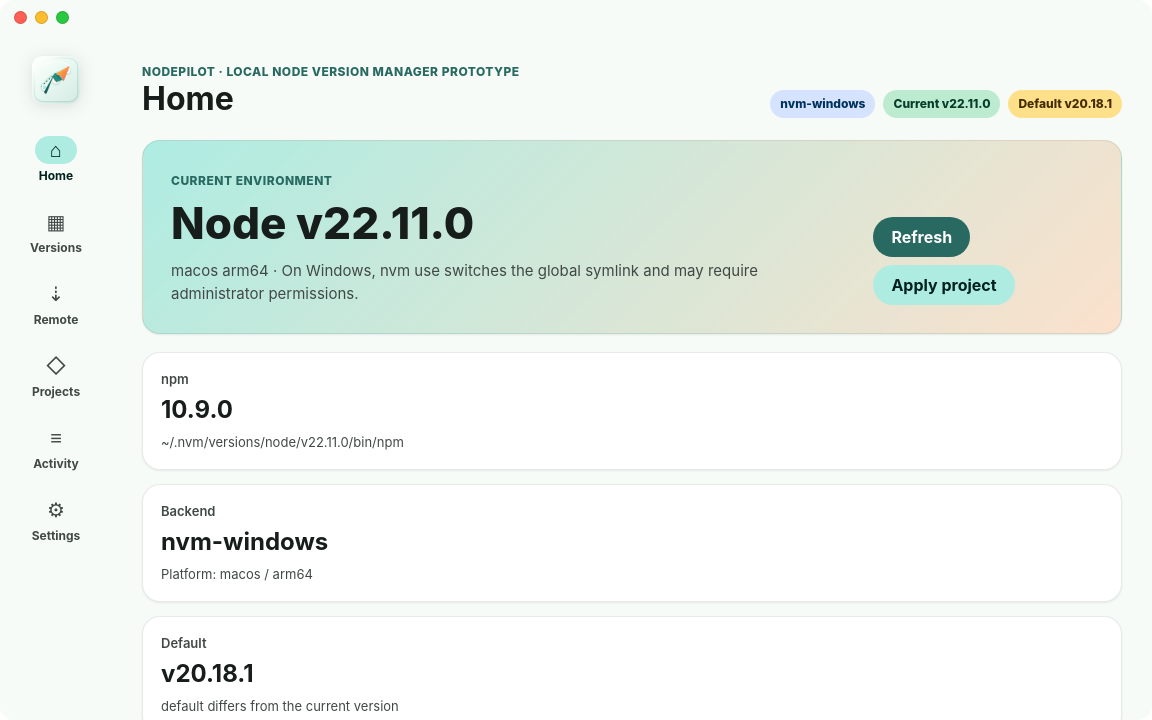
Test: App › shows the Windows symlink notice in Versions for nvm-windows
Expected: the text "nvm-windows" next to "Current v22.11.0" is shown, [780, 96, 866, 111]
Click the button with aria-label "Open Versions": x=56, y=232 [14, 200, 98, 264]
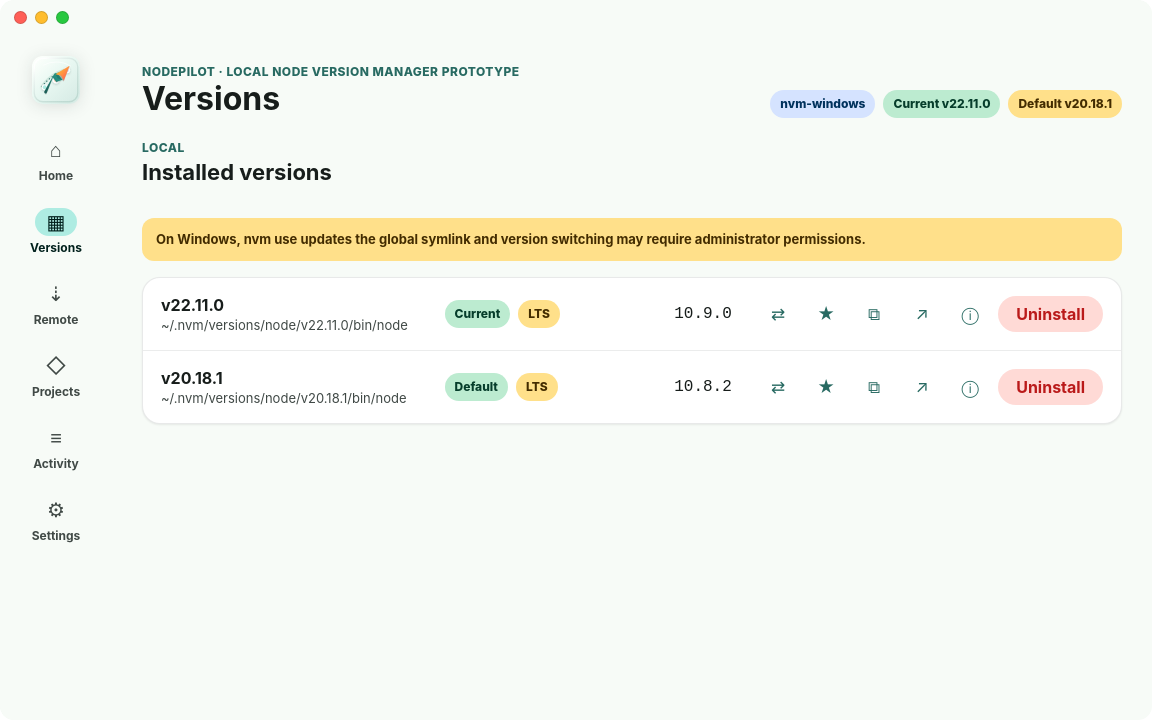
Now the text "On Windows, nvm use updates the global symlink and version switching may require administrator permissions." is shown, box [156, 231, 866, 247]
